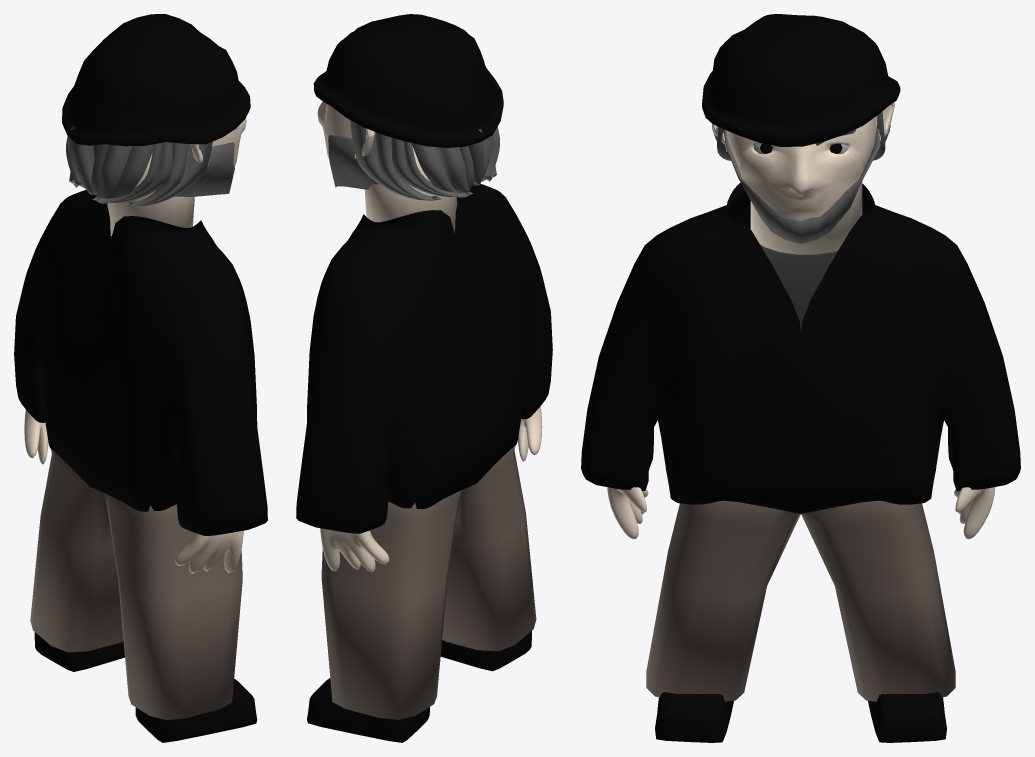
Rendered from character3.fbx.
3 renders of one model, left to right at view 1: azimuth 30°, elevation 25°; view 2: azimuth 150°, elevation 25°; view 3: azimuth 270°, elevation 25°, orthographic. The views are drawn at different scales.
Visible parts, largest first — view 1: Cube.018, Cube.020, Sphere.006, Cube.019, Cube.024, BezierCurve.014, Cylinder.005, BezierCurve.007, Plane.015, BezierCurve.013, BezierCurve.016, Object_low.001 (+1 smaller); view 2: Cube.018, Cube.020, Sphere.006, Cube.019, Cube.024, BezierCurve.014, BezierCurve.007, Cylinder.005, Plane.015, BezierCurve.013, Object_low.001, BezierCurve.015 (+1 smaller); view 3: Cube.018, Cube.020, Sphere.006, Object_low.001, Cube.019, Plane.015, Cube.024, Cube.017, Cylinder.005.
Boxes of the visible parts, x1,y1,x2,y2 form: Cube.018: [14, 190, 267, 535]; Cube.020: [30, 450, 242, 719]; Sphere.006: [62, 14, 250, 146]; Cube.019: [34, 632, 257, 742]; Cube.024: [24, 409, 243, 573]; BezierCurve.014: [66, 136, 154, 198]; Cylinder.005: [107, 153, 194, 235]; BezierCurve.007: [123, 142, 212, 206]; Plane.015: [175, 142, 234, 196]; BezierCurve.013: [69, 142, 172, 203]; BezierCurve.016: [69, 126, 99, 194]; Object_low.001: [212, 117, 246, 166]; Cube.018: [296, 184, 552, 533]; Cube.020: [321, 446, 536, 719]; Sphere.006: [313, 14, 503, 147]; Cube.019: [307, 631, 531, 742]; Cube.024: [320, 406, 542, 571]; BezierCurve.014: [412, 126, 499, 192]; BezierCurve.007: [350, 120, 441, 200]; Cylinder.005: [364, 146, 457, 230]; Plane.015: [328, 135, 378, 189]; BezierCurve.013: [392, 137, 496, 197]; Object_low.001: [317, 101, 352, 159]; BezierCurve.015: [459, 135, 492, 189]; Cube.018: [581, 182, 1020, 513]; Cube.020: [646, 500, 955, 701]; Sphere.006: [702, 14, 900, 146]; Object_low.001: [726, 116, 876, 220]; Cube.019: [655, 692, 946, 742]; Plane.015: [723, 128, 880, 243]; Cube.024: [607, 487, 995, 539]; Cube.017: [760, 244, 837, 331]; Cylinder.005: [750, 181, 862, 254].
Size of the model in its own units: 46.54 by 168 by 95.54.
